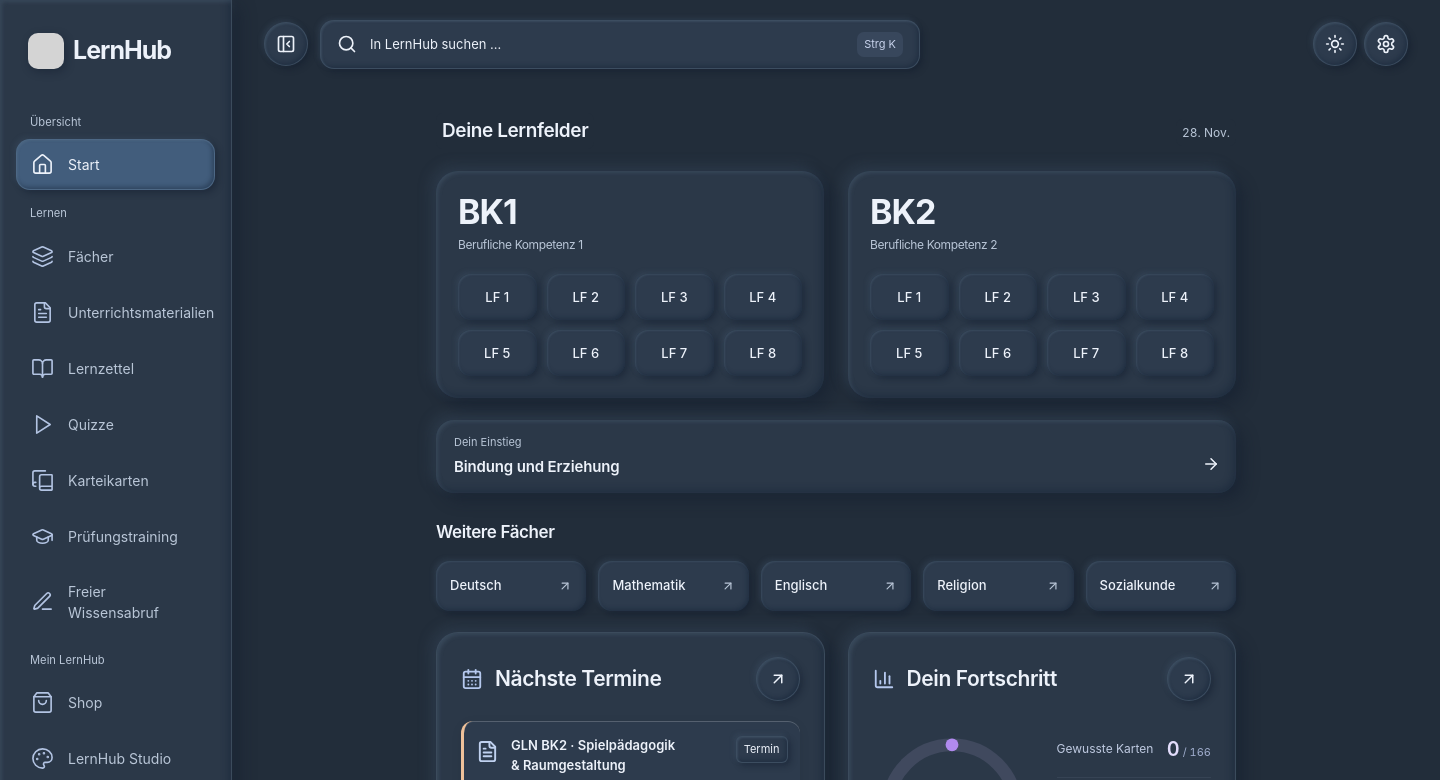
it: keeps every BK1 and BK2 learning field directly reachable from the homepage
Click the link with aria-label "BK1 · Lernfeld 3".
click(674, 297)  # box [635,274,714,320]
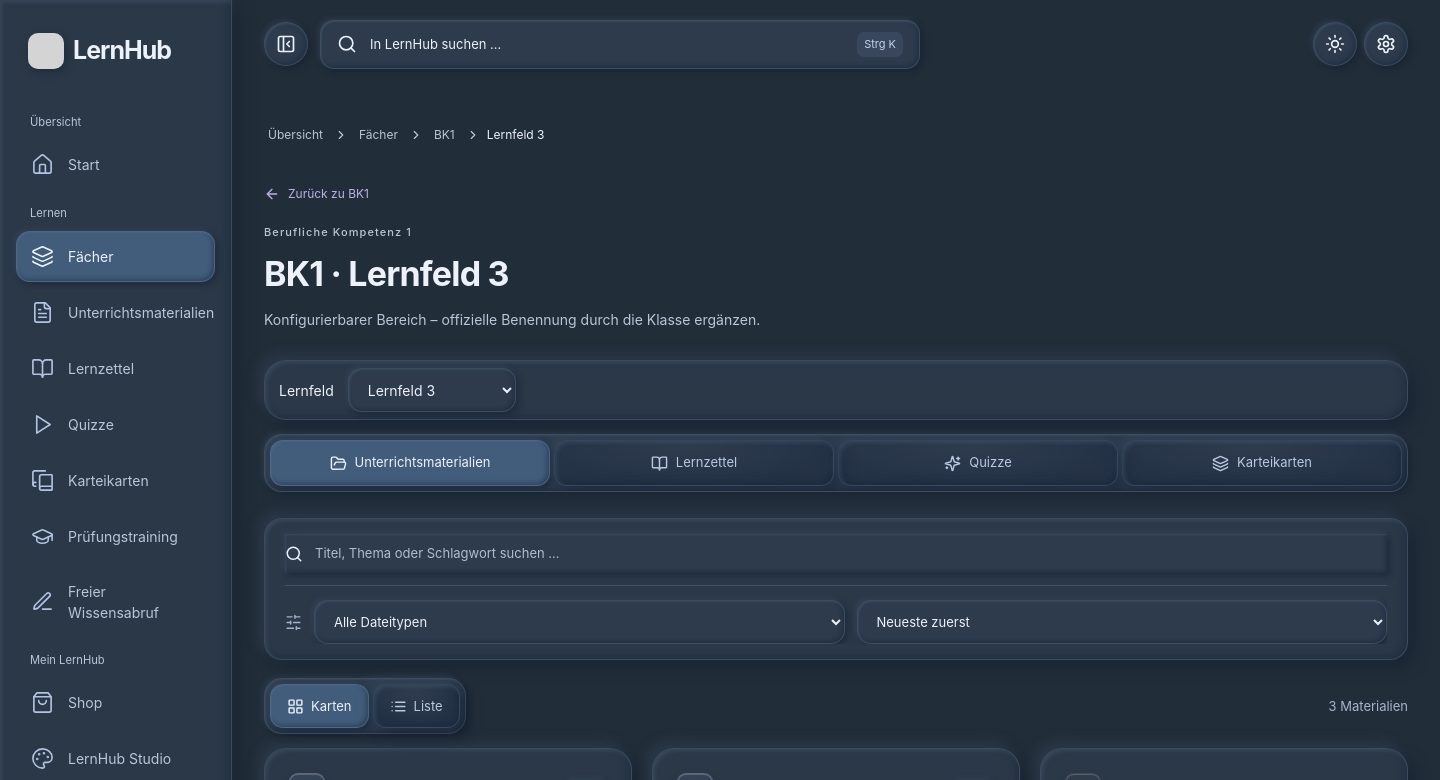
Expected: the heading "BK1 · Lernfeld 3" is shown, [264,253,509,294]
Expected: the button "Unterrichtsmaterialien" is shown, [270,440,550,486]
